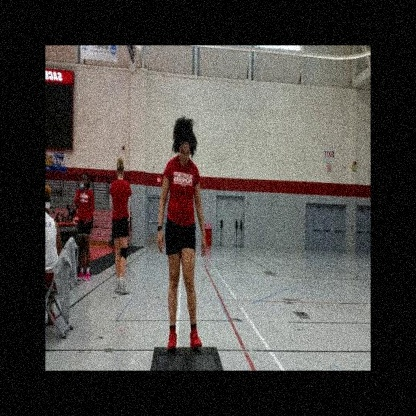lateral_flexion_right: (154, 109, 208, 357)
stance_width_normal: (154, 156, 208, 356)
